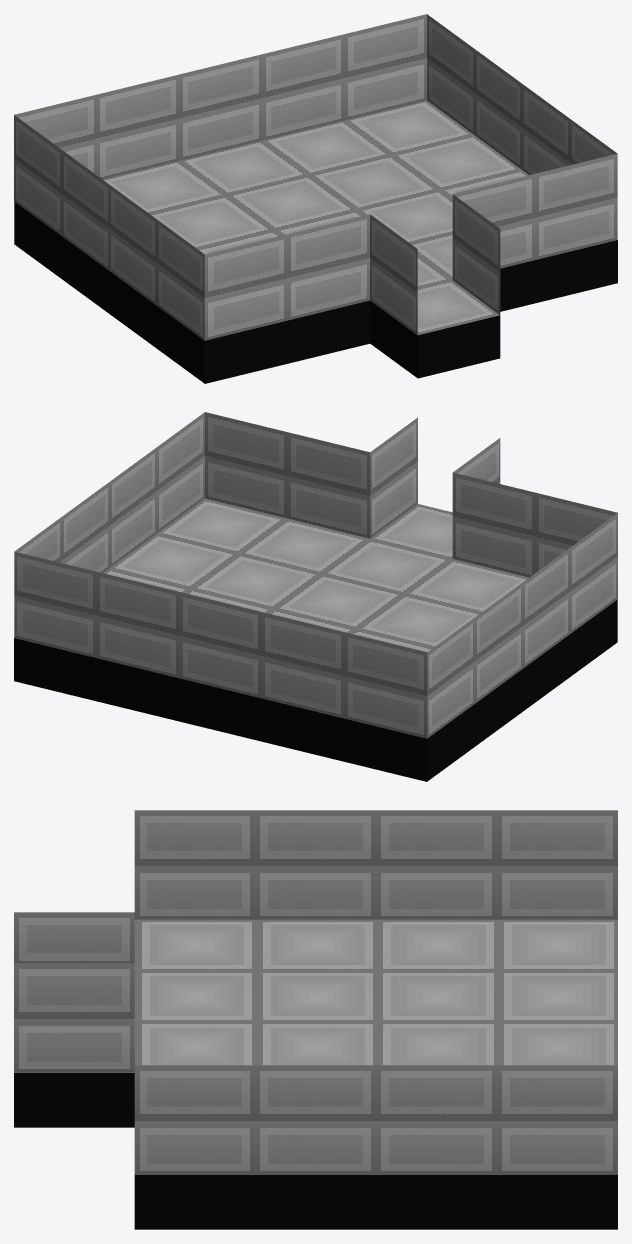
File: mediumroomdeadend.gltf
The picture shows the model from 3 angles, top to bottom: view 1: azimuth 30°, elevation 25°; view 2: azimuth 150°, elevation 25°; view 3: azimuth 270°, elevation 25°; orthographic projection. The views are drawn at different scales.
Visible parts, largest first — view 1: mediumroomdeadend; view 2: mediumroomdeadend; view 3: mediumroomdeadend.
Boxes of the visible parts, x1=… form: mediumroomdeadend: x1=14, y1=14, x2=617, y2=383; mediumroomdeadend: x1=14, y1=412, x2=617, y2=781; mediumroomdeadend: x1=14, y1=810, x2=617, y2=1229.
Bounding box in the file's own units: 10.01 × 3 × 10.
2 materials, 1 textured.
